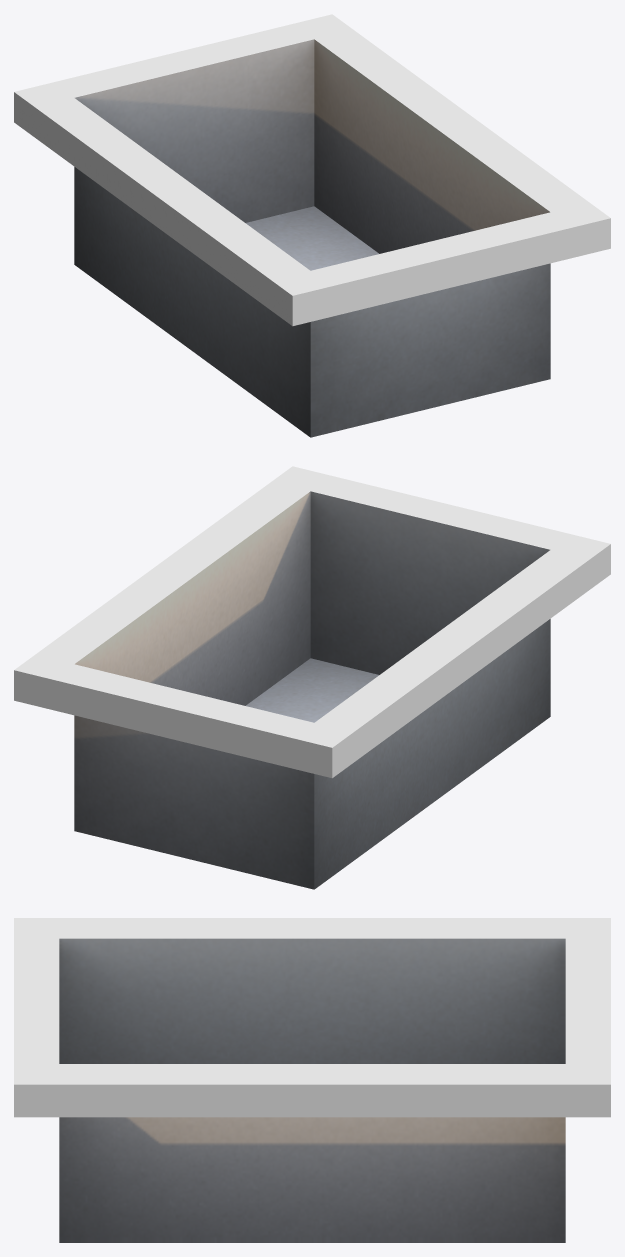
File: Casket.fbx
The picture shows the model from 3 angles, top to bottom: view 1: azimuth 30°, elevation 25°; view 2: azimuth 150°, elevation 25°; view 3: azimuth 270°, elevation 25°; orthographic projection. The views are drawn at different scales.
Parts seen in each view (by area): view 1: polySurface4; view 2: polySurface4; view 3: polySurface4.
Part boxes in pixels (x1,y1,x2,y2): polySurface4: (14, 14, 610, 437); polySurface4: (14, 466, 610, 889); polySurface4: (14, 918, 610, 1242).
Size of the model in its own units: 4.82 by 2.41 by 7.3.
